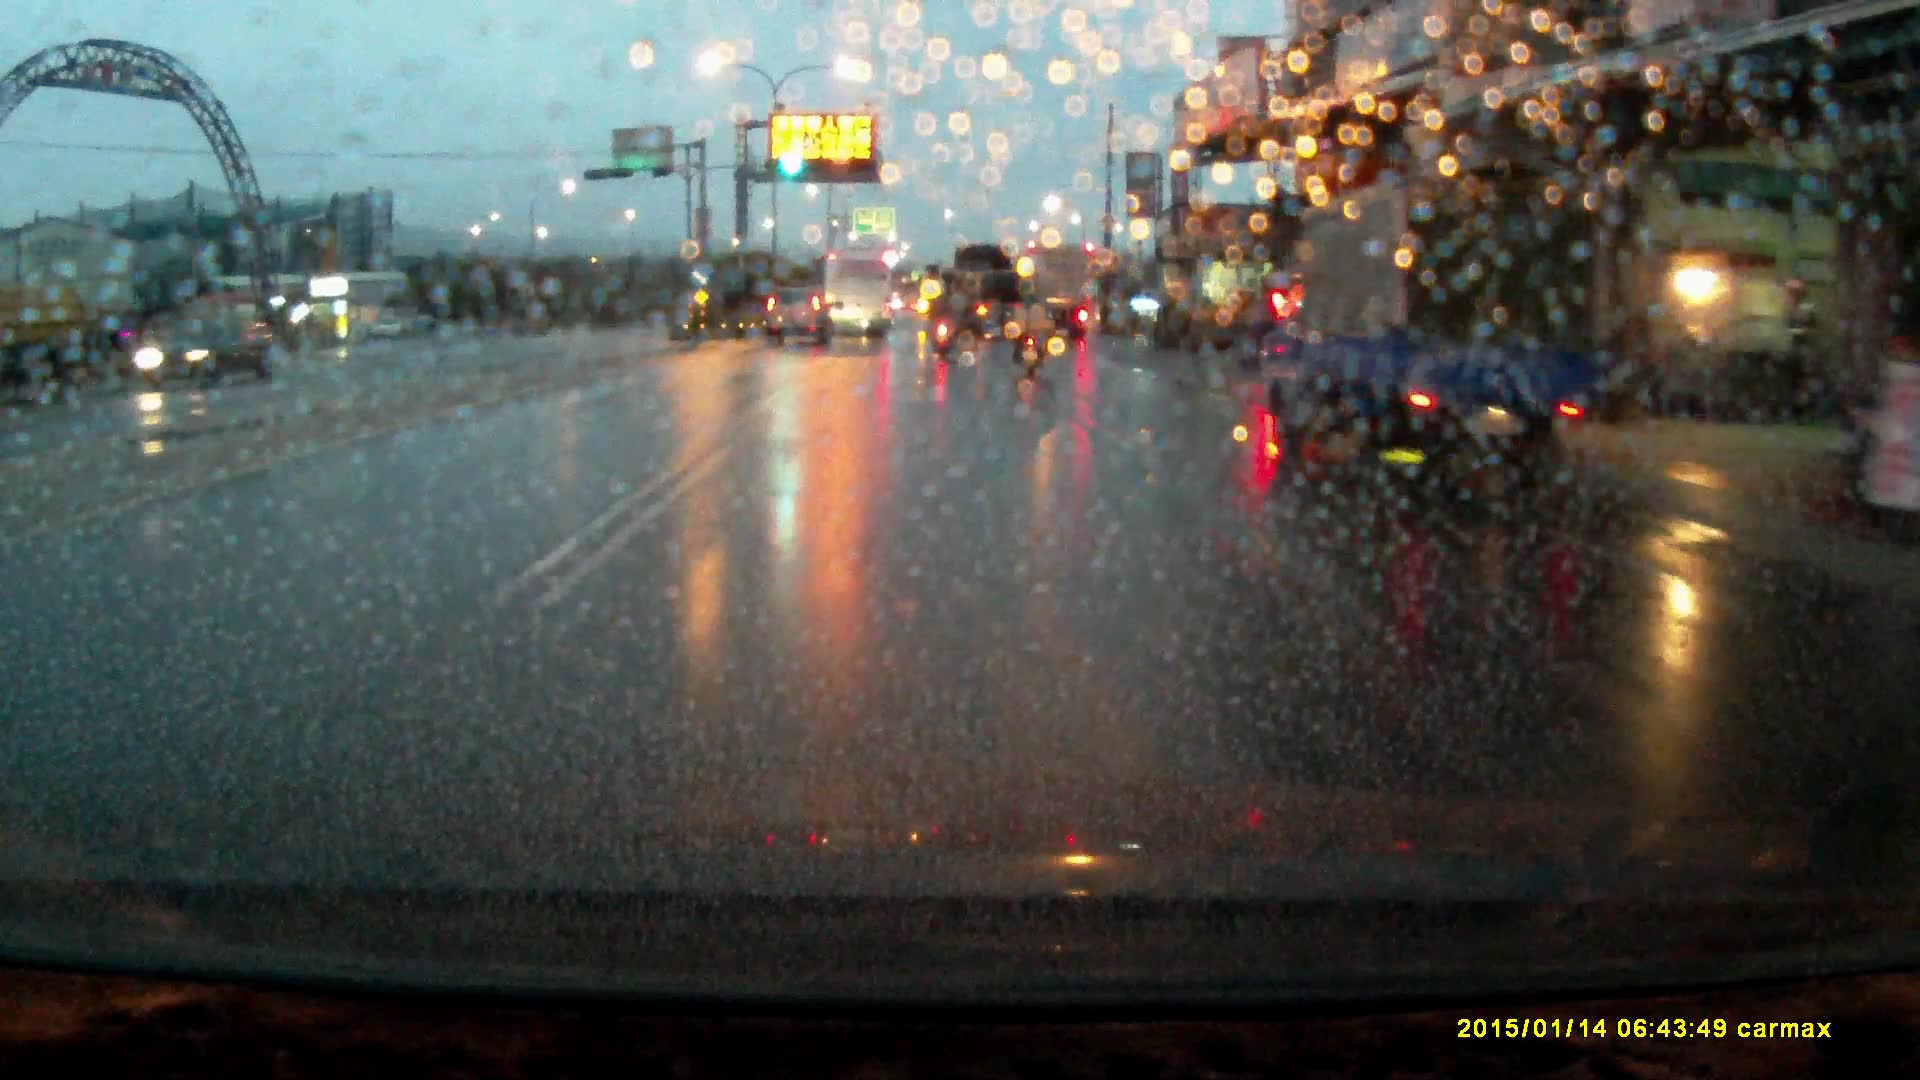rider: (1008, 286, 1051, 381), (930, 287, 958, 359)
vehicle: (1247, 171, 1605, 486), (131, 317, 270, 393), (948, 245, 1020, 338), (822, 249, 895, 333), (1026, 246, 1095, 331), (766, 286, 833, 342)
